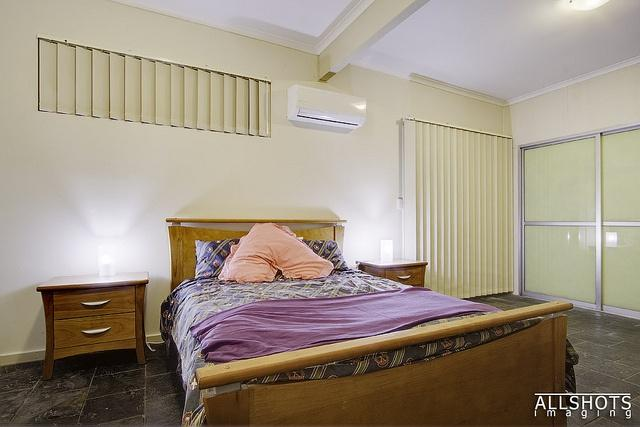AC: (285, 83, 366, 132)
